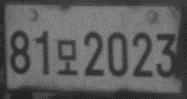0: (107, 31, 128, 77)
1: (35, 30, 50, 76)
2: (81, 30, 105, 77), (130, 31, 153, 79)
3: (155, 32, 179, 79)
8: (9, 30, 31, 74)
모: (56, 37, 78, 77)
